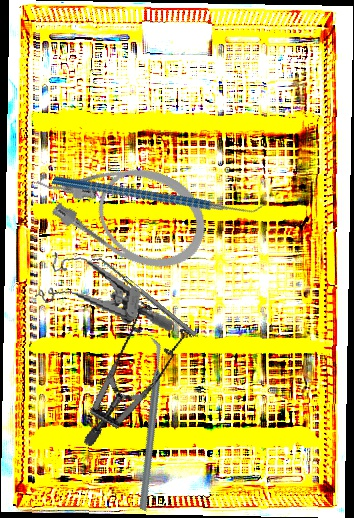Cannula: (23, 127, 221, 285)
Chopper: (50, 106, 269, 278), (75, 337, 222, 512)
Spatula Surgical: (91, 252, 197, 342)
Speculum: (40, 288, 216, 448), (33, 250, 181, 332)
